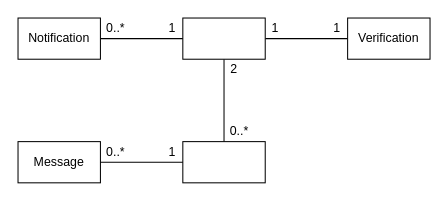
Image size: 448x201. Some labels were removed from this diagram. Here are the shapes that lost their labels. From the top down, the centre of each, then its label:
pixel 223 38: User
pixel 223 162: Conversation
